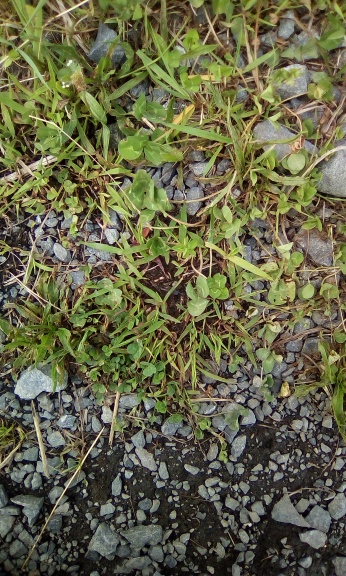4leaf: (205, 272, 230, 301)
